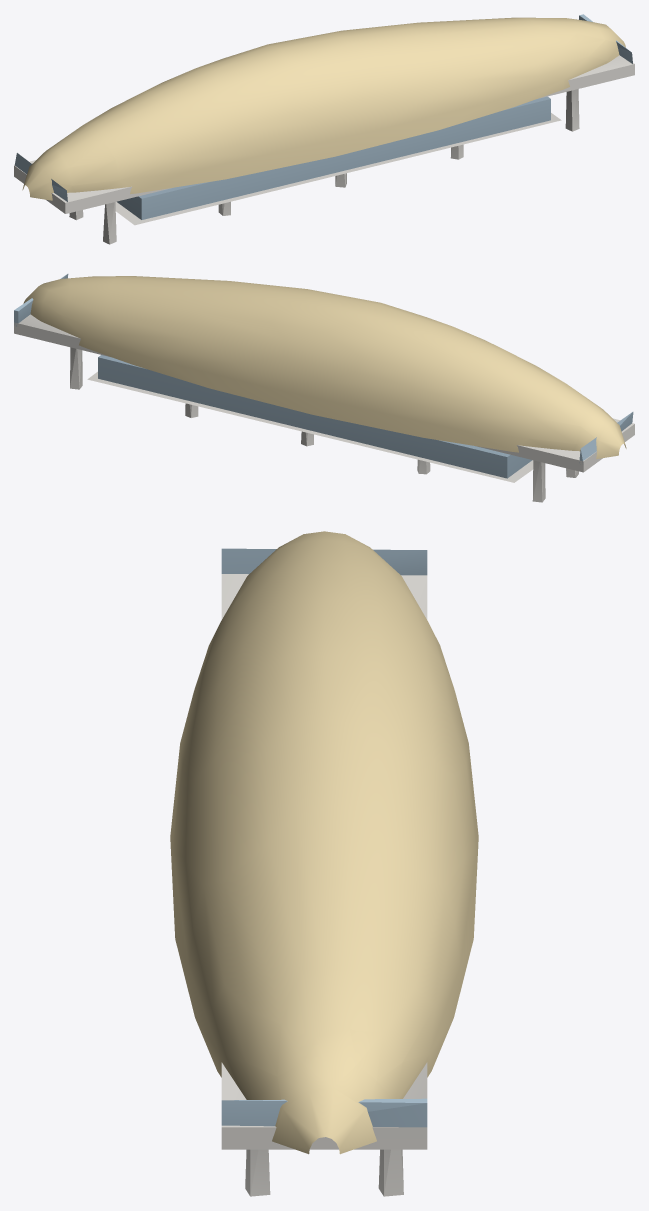
Rendered from metro_station_lod1.glb.
3 renders of one model, top to bottom at view 1: azimuth 30°, elevation 25°; view 2: azimuth 150°, elevation 25°; view 3: azimuth 270°, elevation 25°, orthographic. The views are drawn at different scales.
Visible parts, largest first — view 1: metro_station_lod1; view 2: metro_station_lod1; view 3: metro_station_lod1.
Boxes of the visible parts, x1=… form: metro_station_lod1: x1=14, y1=14, x2=634, y2=244; metro_station_lod1: x1=14, y1=274, x2=634, y2=502; metro_station_lod1: x1=170, y1=531, x2=478, y2=1196.
Bounding box in the file's own units: 134 × 28.79 × 30.02.
